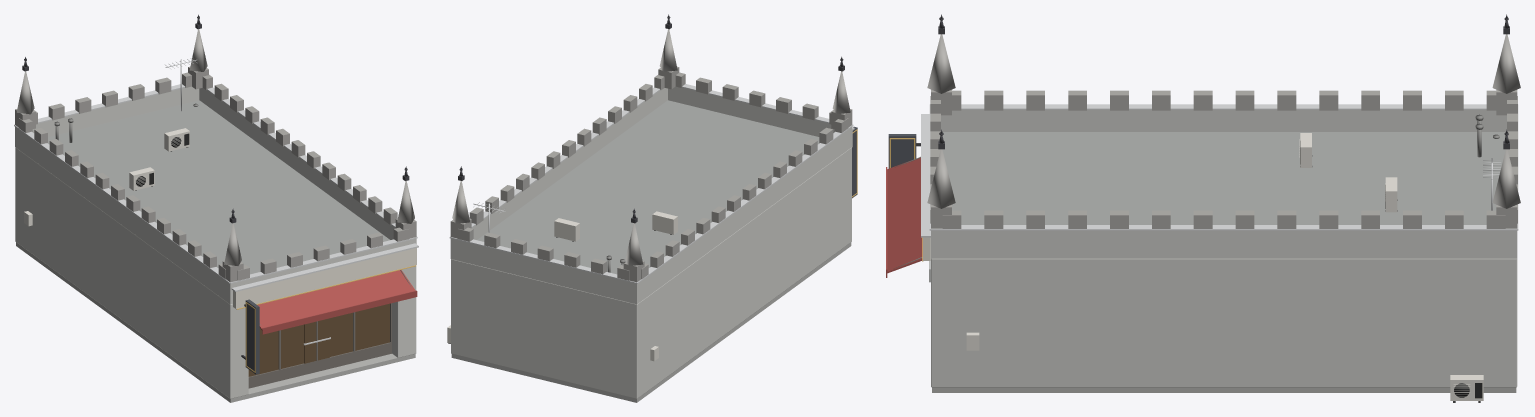
File: blk_grocer.glb
3 renders of one model, left to right at view 1: azimuth 30°, elevation 25°; view 2: azimuth 150°, elevation 25°; view 3: azimuth 270°, elevation 25°, orthographic. The views are drawn at different scales.
Visible parts, largest first — view 1: blk_grocer; view 2: blk_grocer; view 3: blk_grocer.
Boxes of the visible parts, x1,y1,x2,y2 form: blk_grocer: [14, 14, 418, 402]; blk_grocer: [447, 14, 857, 402]; blk_grocer: [886, 14, 1520, 402].
Bounding box in the file's own units: 7.76 × 6.85 × 15.16.
